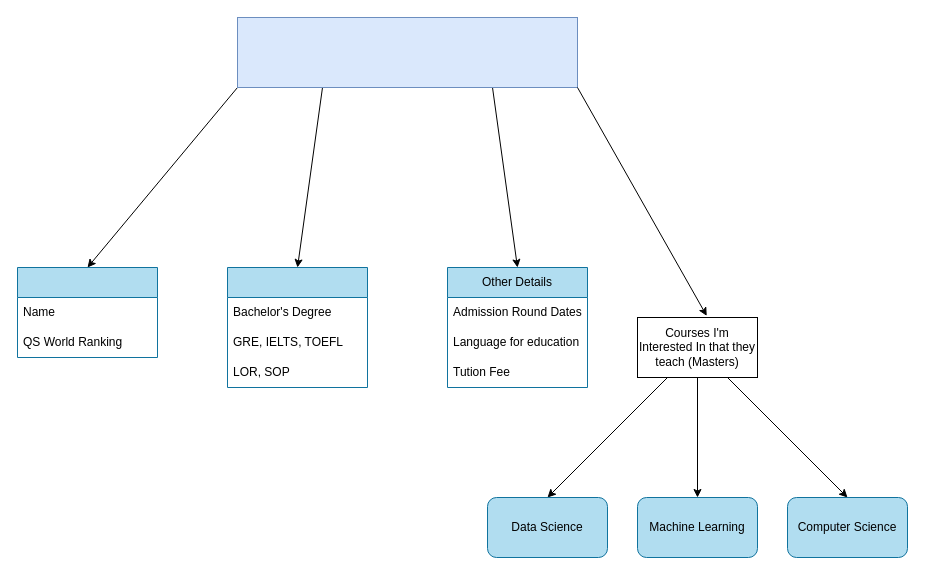
This 925x575 diagram has some shape labels left out. Here are the shapes that lost their labels. From the top down, the box of each, then its label:
(236, 16, 578, 88): University Details
(16, 266, 158, 358): University Status
(226, 266, 368, 388): Qualifications Needed
